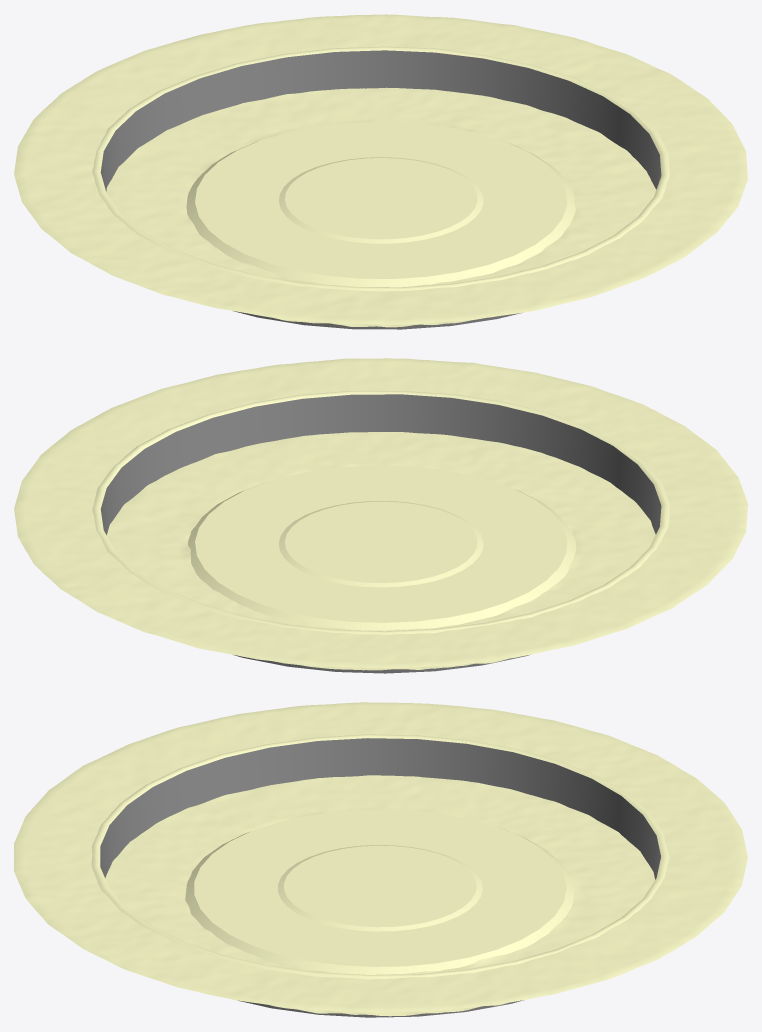
The model's file is prop_terrain_good_normal.FBX.
The picture shows the model from 3 angles, top to bottom: view 1: azimuth 30°, elevation 25°; view 2: azimuth 150°, elevation 25°; view 3: azimuth 270°, elevation 25°; orthographic projection.
Visible parts, largest first — view 1: Desert, Buildings, Trees; view 2: Desert, Buildings, Trees; view 3: Desert, Buildings, Trees.
Part boxes in pixels (x1,y1,x2,y2): Desert: (14,14,747,329); Buildings: (186,121,575,287); Trees: (106,87,656,327); Desert: (14,358,747,673); Buildings: (188,465,576,630); Trees: (107,432,655,670); Desert: (14,702,747,1017); Buildings: (185,809,574,974); Trees: (105,775,654,1016).
Size of the model in its own units: 98591 by 6747 by 98492.
